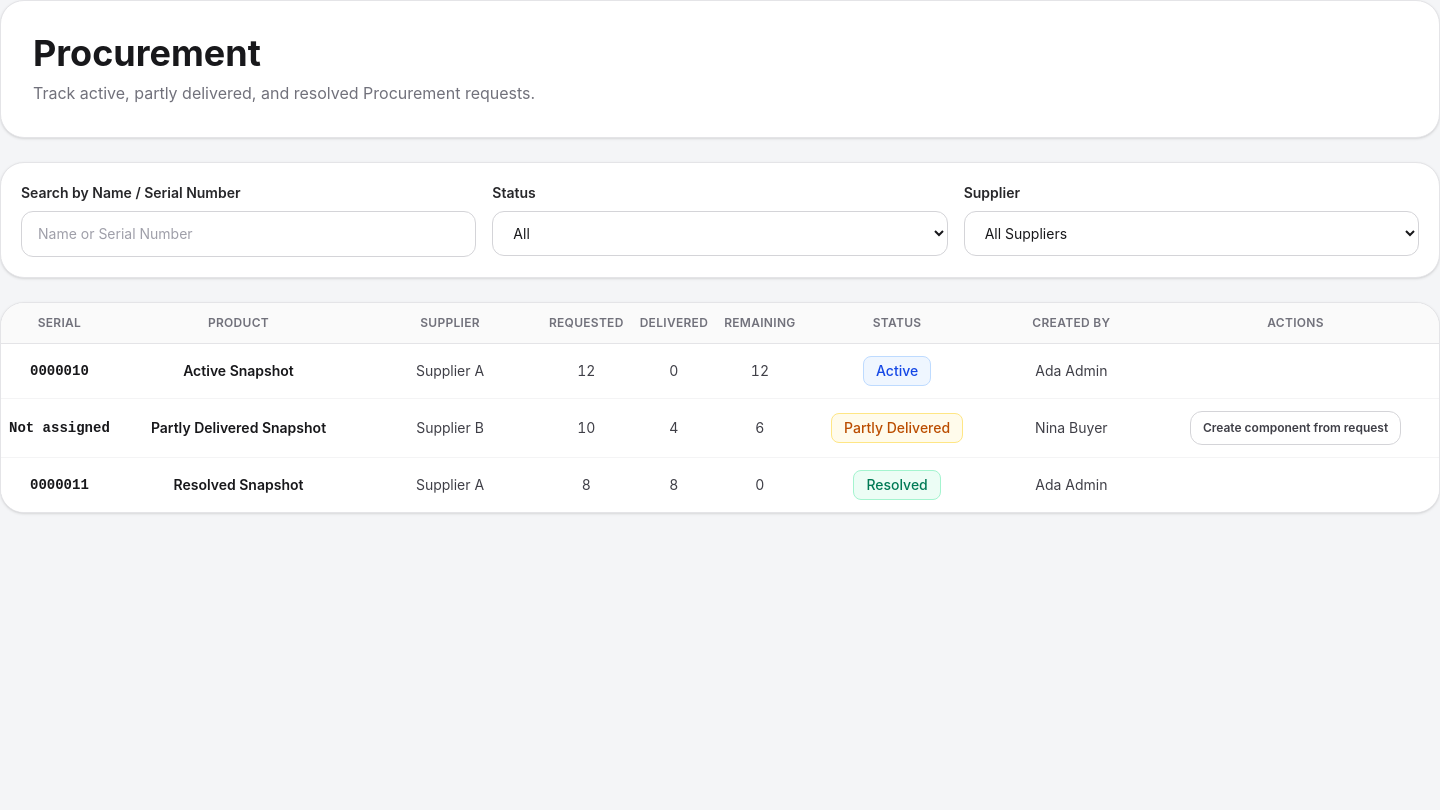
ProcurementPage › opens the request-prefilled dialog and reports the generated Serial
Click the button "Create component from request" at [1296, 428], box [1190, 411, 1401, 445]
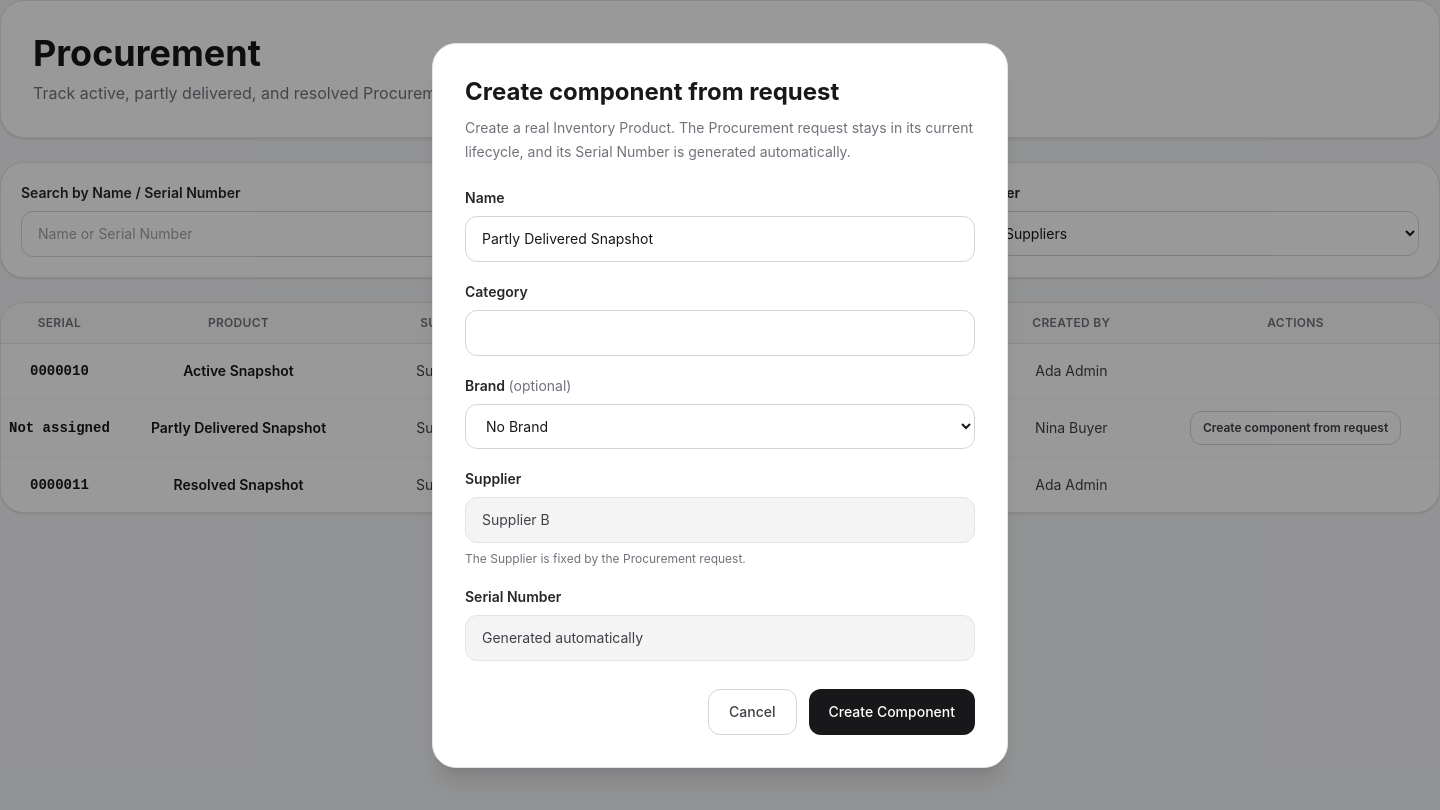
expect the dialog "Create component from request" is shown: met, box [432, 42, 1008, 768]
expect the field labelled "Name" holds "Partly Delivered Snapshot": met, box [465, 216, 975, 262]
expect the field labelled "Supplier" holds "Supplier B": met, box [465, 496, 975, 542]
Type "Components" into the field labelled "Category" at [720, 332], box [465, 310, 975, 356]
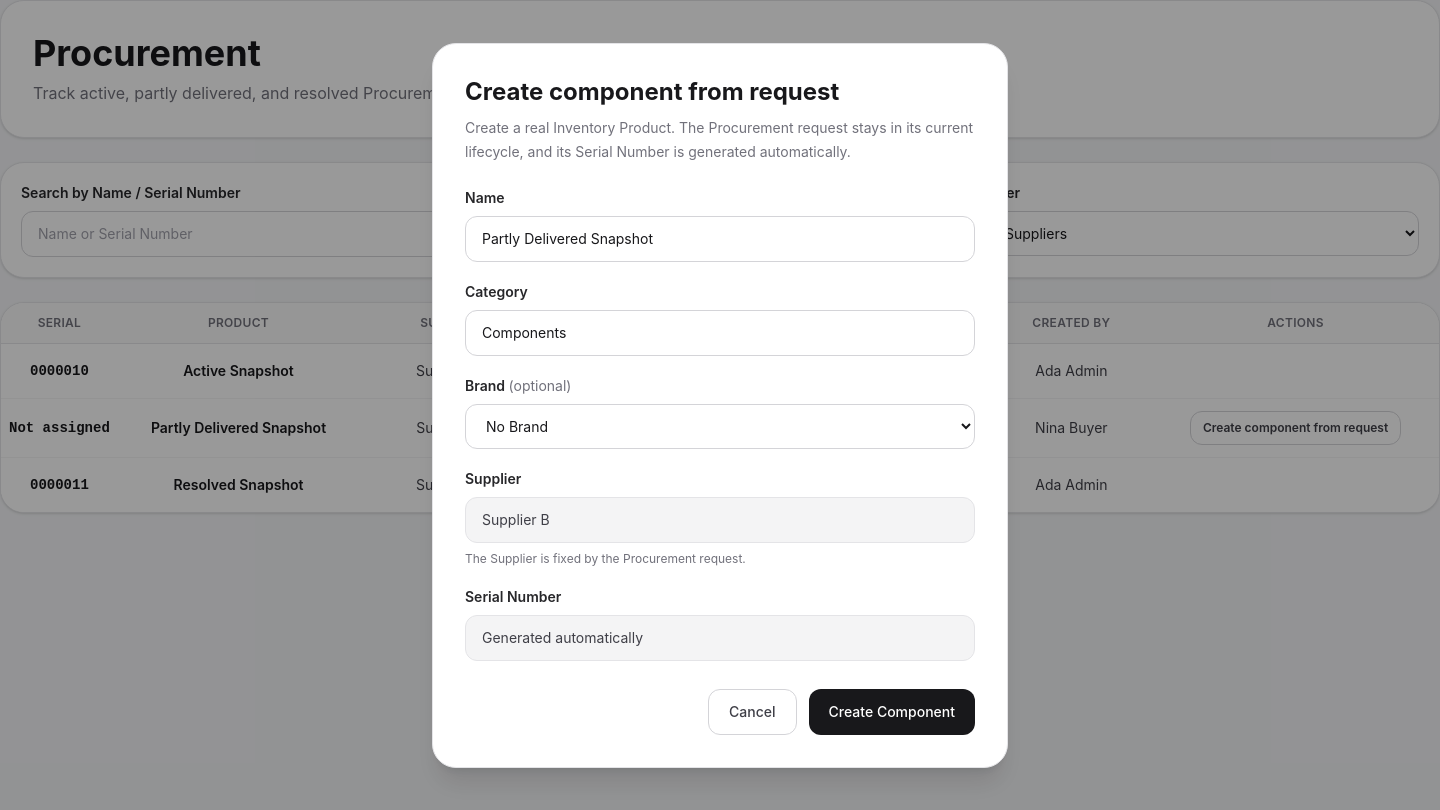
Click the button "Create Component" at [892, 712], box [809, 688, 975, 734]
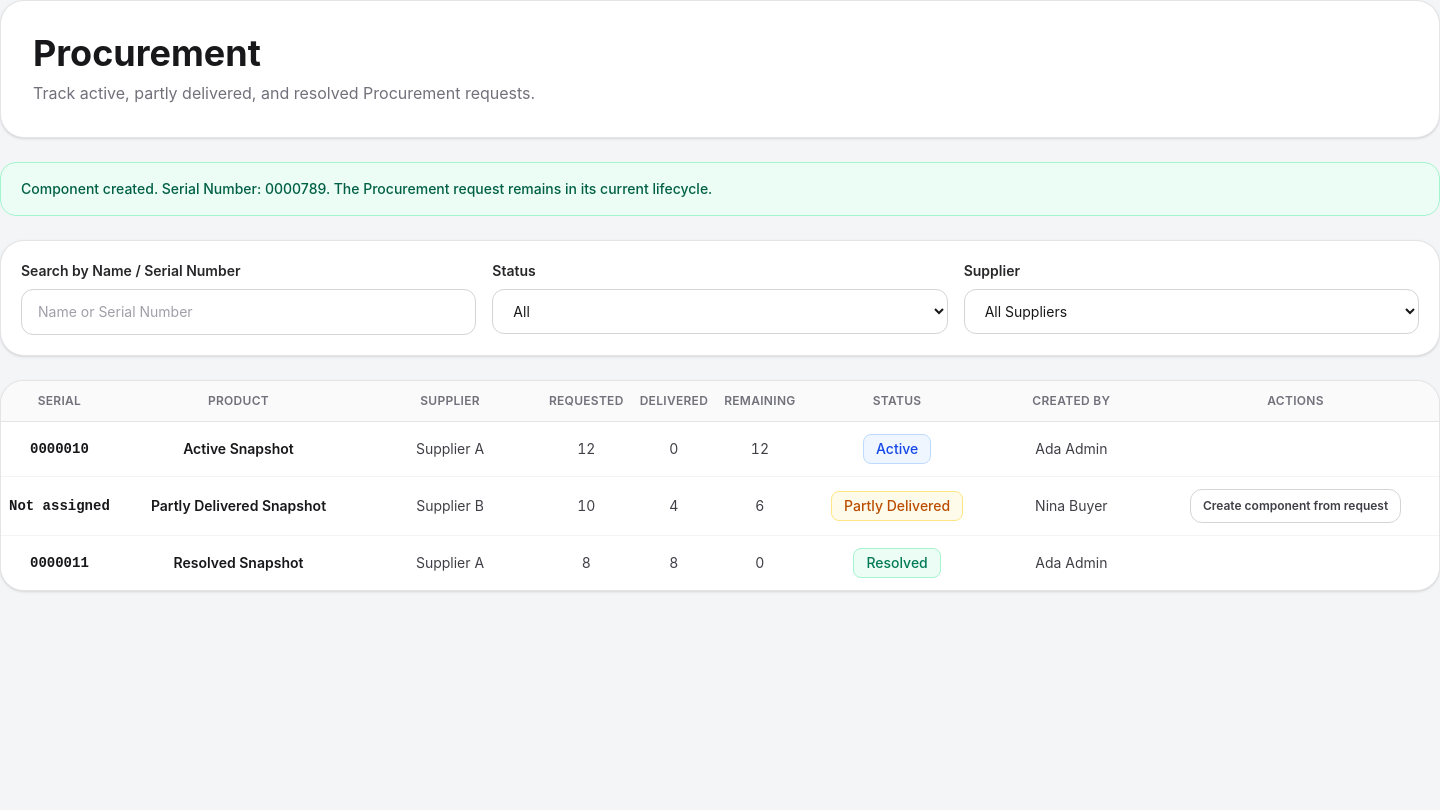
expect the message shows "Component created. Serial Number: 0000789.": met, box [21, 180, 712, 197]
